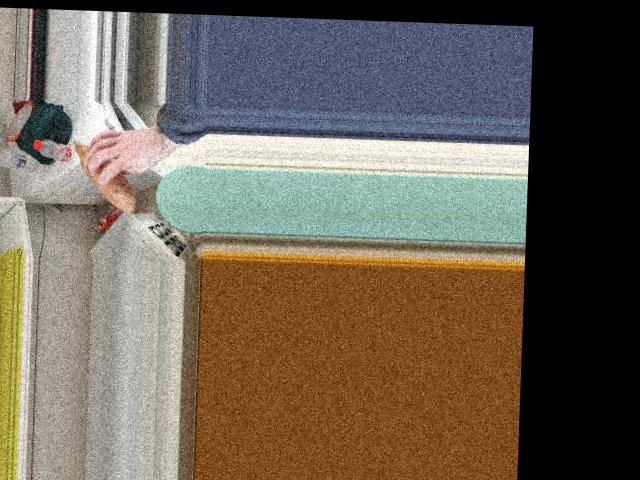sweet_potato: (74, 135, 136, 208)
